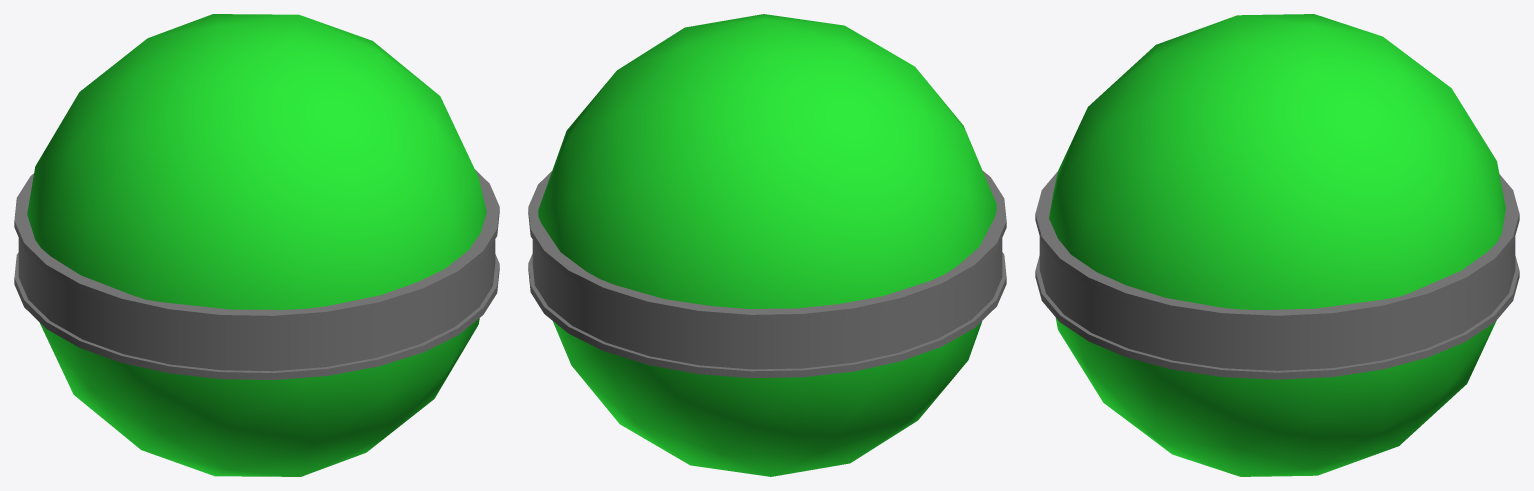
Rendered from Planet_Mapa08_DBZ.FBX.
3 views of the same model, side by side, from view 1: azimuth 30°, elevation 25°; view 2: azimuth 150°, elevation 25°; view 3: azimuth 270°, elevation 25° (orthographic).
Visible parts, largest first — view 1: GeoSphere001, Circle001; view 2: GeoSphere001, Circle001; view 3: GeoSphere001, Circle001.
Boxes of the visible parts, x1,y1,x2,y2 form: GeoSphere001: (27, 14, 486, 476); Circle001: (14, 169, 499, 379); GeoSphere001: (538, 14, 996, 476); Circle001: (528, 171, 1006, 378); GeoSphere001: (1049, 14, 1505, 476); Circle001: (1035, 171, 1519, 379).
Bounding box in the file's own units: 452 × 432 × 452.
